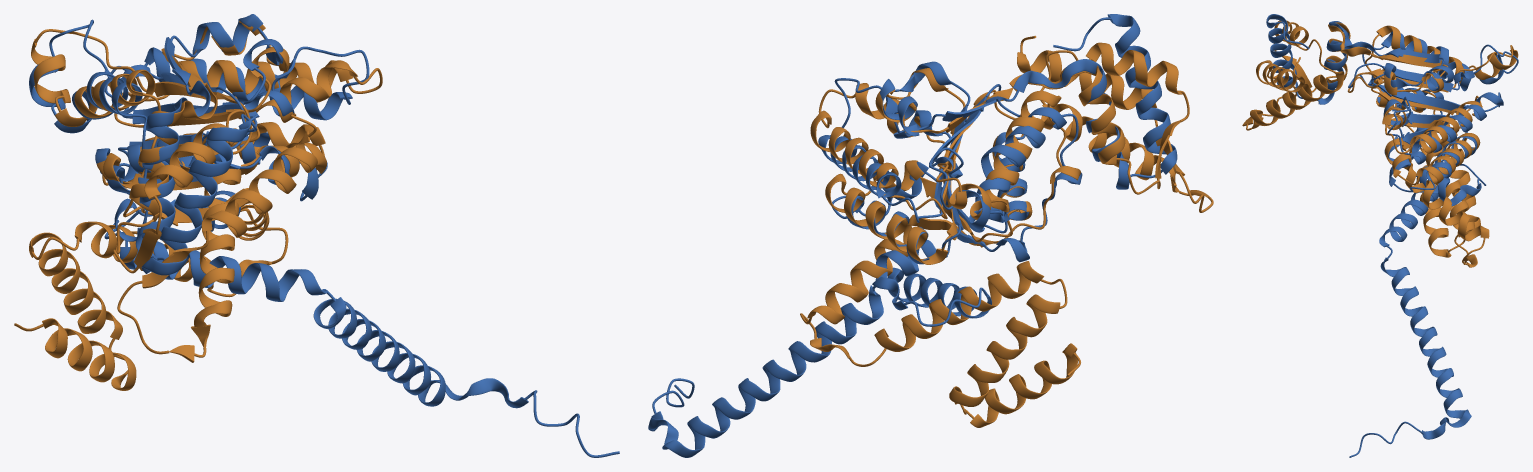
3 views of the same model, side by side, from view 1: azimuth 30°, elevation 25°; view 2: azimuth 150°, elevation 25°; view 3: azimuth 270°, elevation 25° (orthographic). The views are drawn at different scales.
Size of the model in its own units: 91.34 by 77.84 by 63.68.
